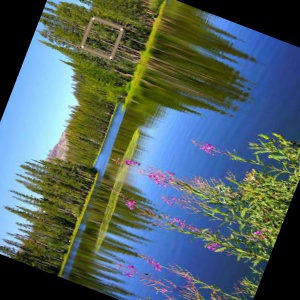square: (78, 14, 125, 61)
